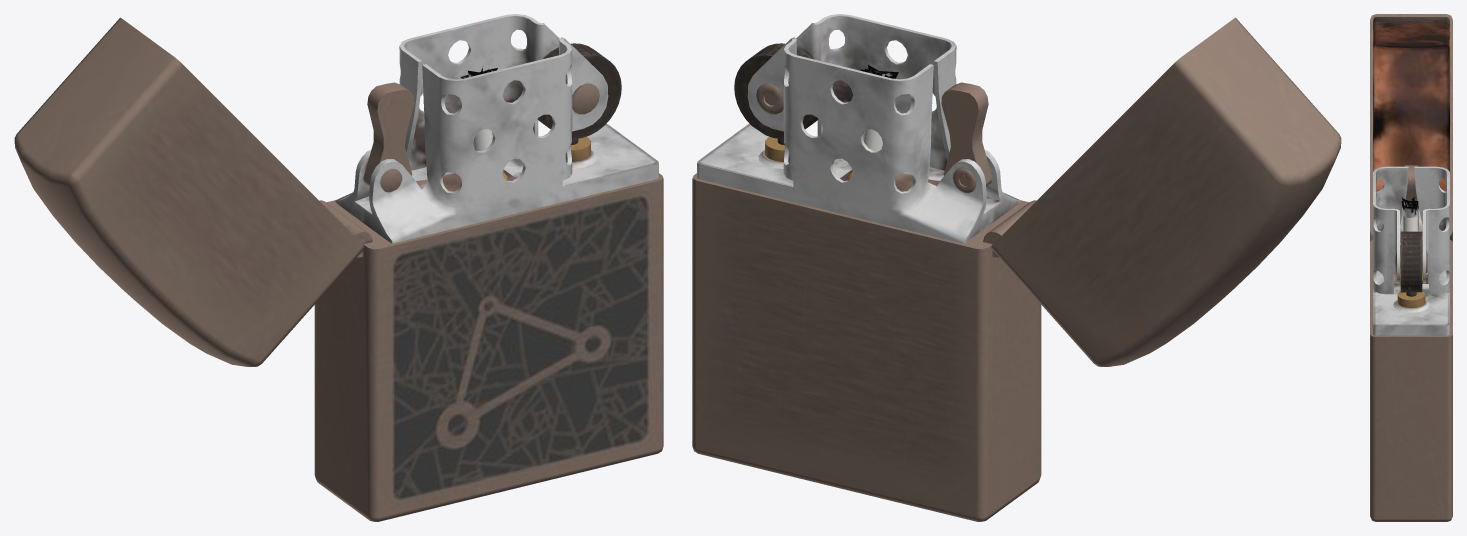
The model's file is vintage_lighter.glb.
3 renders of one model, left to right at view 1: azimuth 30°, elevation 25°; view 2: azimuth 150°, elevation 25°; view 3: azimuth 270°, elevation 25°, orthographic. The views are drawn at different scales.
Parts seen in each view (by area): view 1: vintage_lighter; view 2: vintage_lighter; view 3: vintage_lighter, vintage_lighter_alpha.
Part boxes in pixels (x1,y1,x2,y2): vintage_lighter: (14,14,663,521); vintage_lighter: (692,14,1341,521); vintage_lighter: (1370,14,1452,521); vintage_lighter_alpha: (1401,197,1418,217).
Size of the model in its own units: 0.0796 by 0.065 by 0.014.
Materials: 2 (2 with a texture image).
